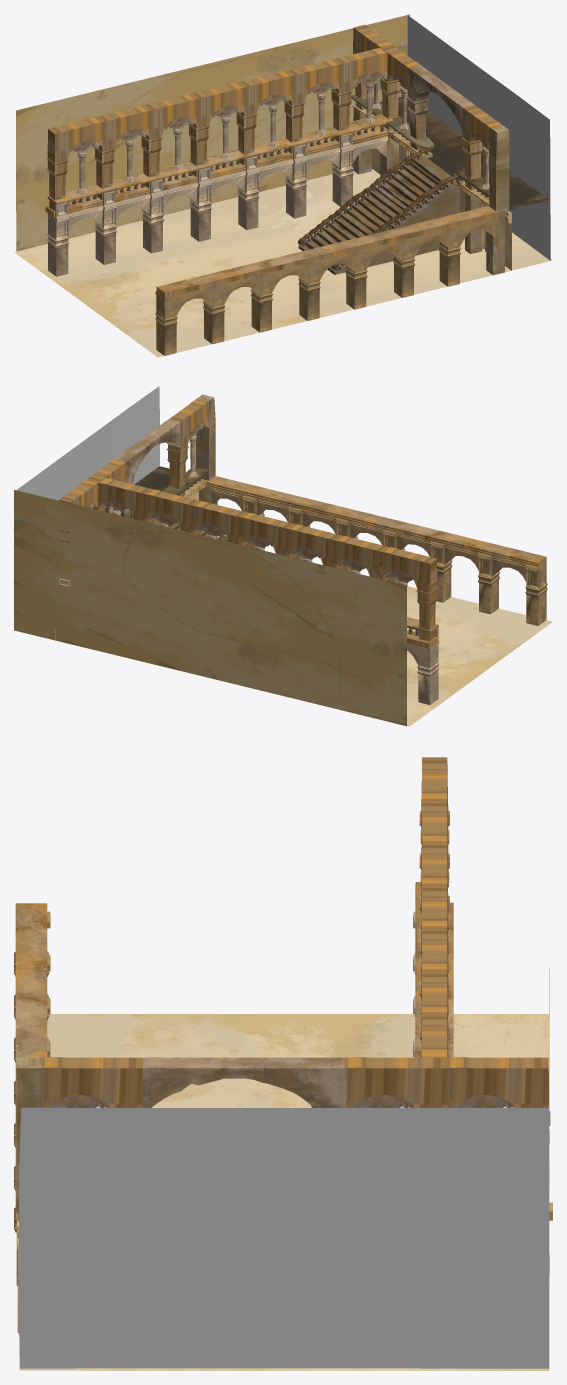
Rendered from EnvironmentRoomA.fbx.
3 renders of one model, top to bottom at view 1: azimuth 30°, elevation 25°; view 2: azimuth 150°, elevation 25°; view 3: azimuth 270°, elevation 25°, orthographic. The views are drawn at different scales.
Visible parts, largest first — view 1: floor020, wall1, ArchPillarTop000, WallBehindStairs, StraightStair007, Trimming2, floor023, SkinnyTrimming, BigArchPillar, Trimming, ArchPillarBottom000, ArchPillarBottom003 (+26 smaller); view 2: wall1, ArchPillarTop000, floor020, WallBehindStairs, Trimming2, ArchPillarTop003, HollowWallArchPillar000, BigArchPillar, HollowWallArchPillar001, ArchPillarBottom000, pillar149, HollowWallArchPillar002 (+8 smaller); view 3: WallBehindStairs, floor020, ArchPillarTop000, BigArchPillar, Trimming2, ArchPillarTop003, ArchPillarTop001, ArchPillarTop002, pillar149, SkinnyTrimming, Trimming.
Boxes of the visible parts, x1,y1,x2,y2 form: floor020: [14, 169, 552, 357]; wall1: [16, 14, 409, 251]; ArchPillarTop000: [46, 48, 387, 211]; WallBehindStairs: [407, 15, 550, 260]; StraightStair007: [298, 156, 459, 274]; Trimming2: [156, 214, 463, 297]; floor023: [380, 95, 549, 209]; SkinnyTrimming: [47, 126, 351, 204]; BigArchPillar: [406, 65, 474, 150]; Trimming: [45, 138, 339, 217]; ArchPillarBottom000: [46, 202, 103, 276]; ArchPillarBottom003: [189, 167, 245, 241]; wall1: [14, 489, 406, 726]; ArchPillarTop000: [98, 478, 438, 641]; floor020: [53, 586, 552, 726]; WallBehindStairs: [16, 386, 159, 500]; Trimming2: [241, 484, 546, 567]; ArchPillarTop003: [166, 399, 208, 496]; HollowWallArchPillar000: [491, 557, 547, 625]; BigArchPillar: [114, 419, 180, 517]; HollowWallArchPillar001: [444, 545, 500, 614]; ArchPillarBottom000: [407, 627, 439, 704]; pillar149: [195, 394, 215, 480]; HollowWallArchPillar002: [396, 533, 452, 602]; WallBehindStairs: [19, 1107, 549, 1368]; floor020: [19, 1014, 549, 1370]; ArchPillarTop000: [419, 757, 449, 1057]; BigArchPillar: [143, 1057, 346, 1107]; Trimming2: [15, 903, 47, 1171]; ArchPillarTop003: [41, 1057, 143, 1107]; ArchPillarTop001: [344, 1057, 447, 1107]; ArchPillarTop002: [447, 1057, 550, 1143]; pillar149: [16, 1057, 41, 1212]; SkinnyTrimming: [415, 882, 421, 1057]; Trimming: [448, 902, 453, 1057].
Bounding box in the file's own units: 4237 × 1456 × 2703.
